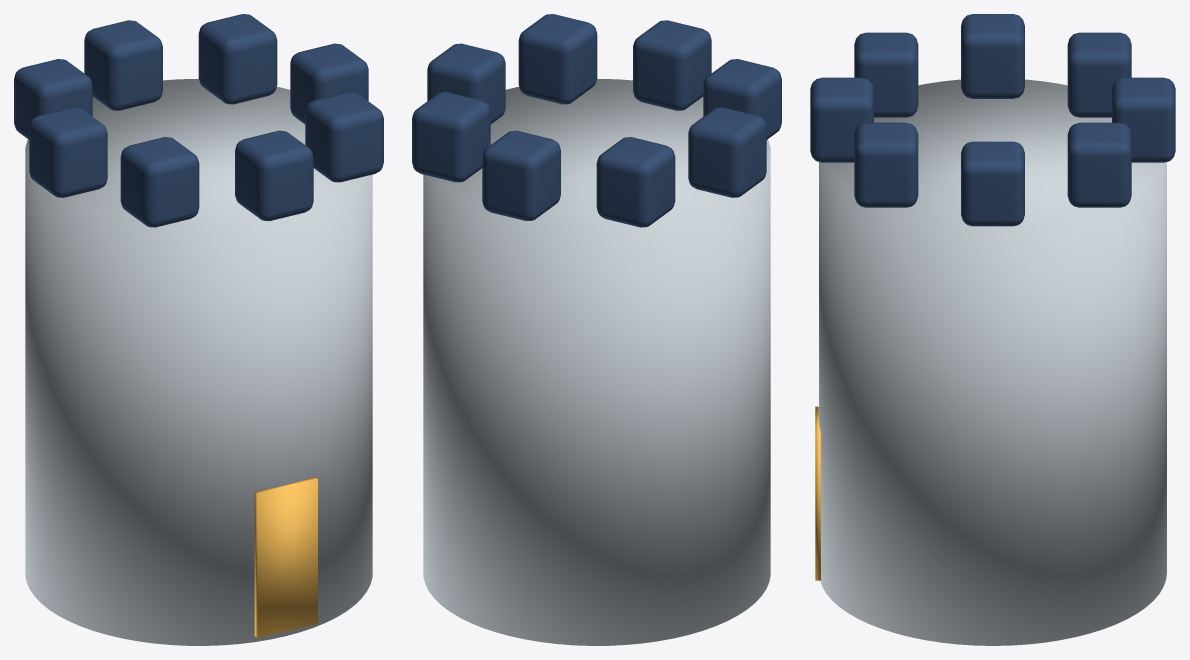
The model's file is castle-tower-quality.glb.
3 views of the same model, side by side, from view 1: azimuth 30°, elevation 25°; view 2: azimuth 150°, elevation 25°; view 3: azimuth 270°, elevation 25° (orthographic).
Parts seen in each view (by area): view 1: Tower; view 2: Tower; view 3: Tower.
Boxes of the visible parts, x1,y1,x2,y2 form: Tower: (14,14,383,645); Tower: (412,14,781,645); Tower: (810,14,1175,645).
Size of the model in its own units: 1.26 by 1.85 by 1.26.
